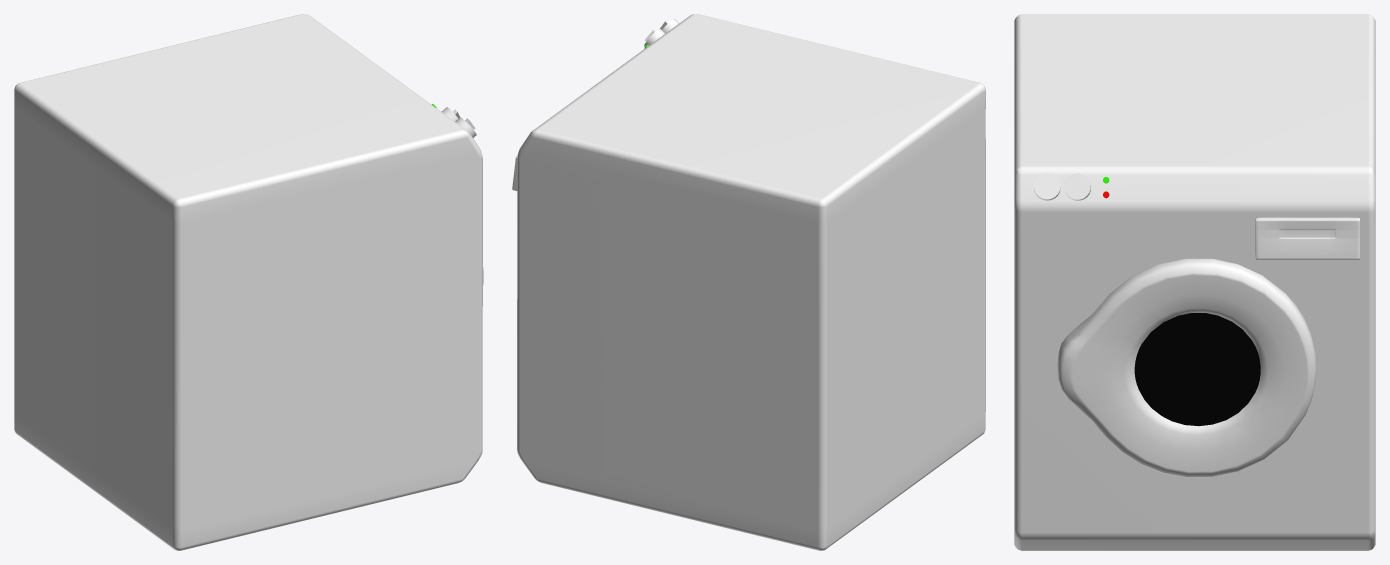
Rendered from Washer 1.fbx.
3 renders of one model, left to right at view 1: azimuth 30°, elevation 25°; view 2: azimuth 150°, elevation 25°; view 3: azimuth 270°, elevation 25°, orthographic. The views are drawn at different scales.
Visible parts, largest first — view 1: polySurface53; view 2: polySurface53; view 3: polySurface53.
Part boxes in pixels (left/top/right/bottom): polySurface53: left=14, top=14, right=483, bottom=550; polySurface53: left=512, top=14, right=985, bottom=550; polySurface53: left=1014, top=14, right=1375, bottom=550.
Bounding box in the file's own units: 4.01 × 4.08 × 3.46.
1 material, 1 textured.
